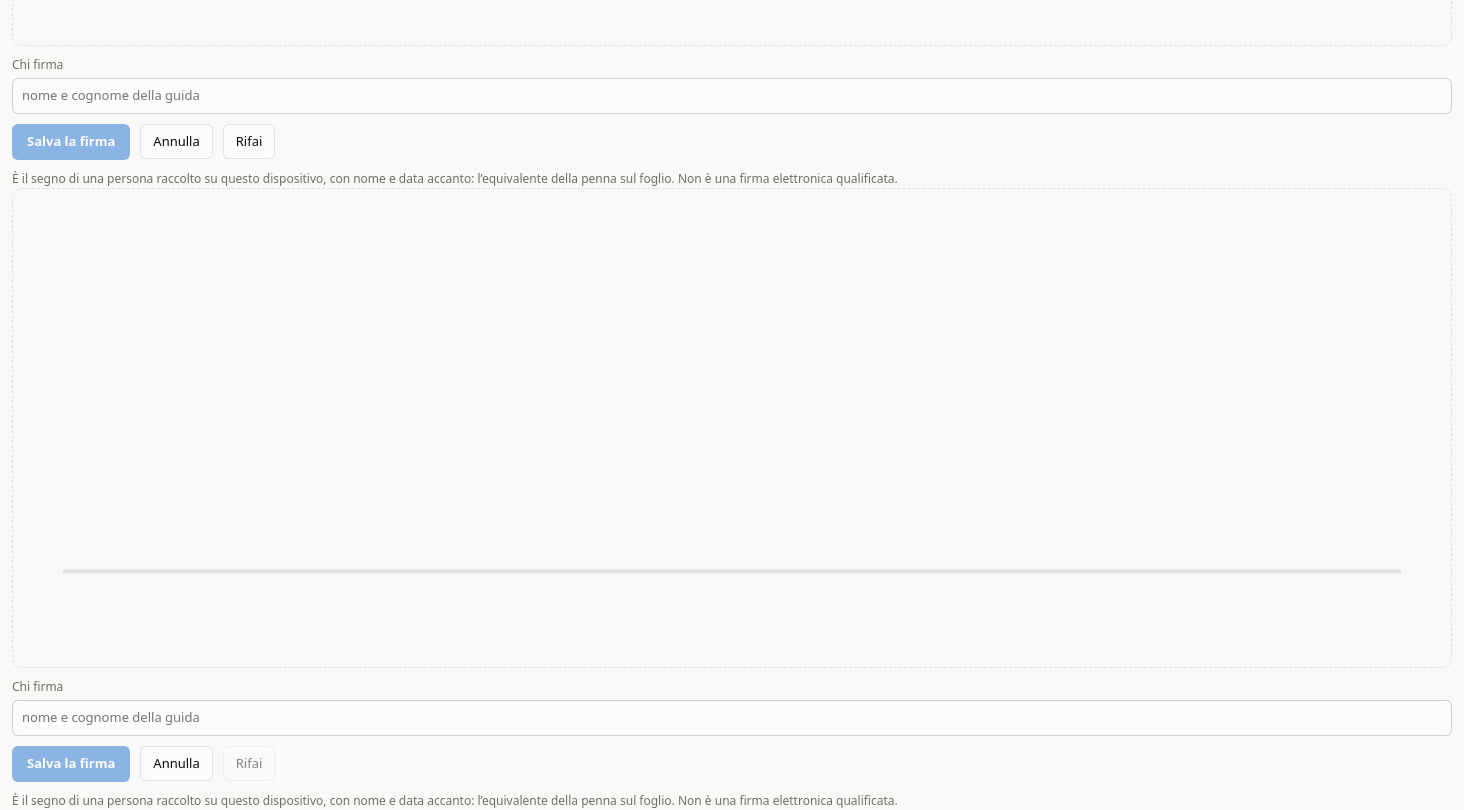
Test case: non si salva una firma vuota › con un segno vero si accende
(page scrolled)
Press the mouse on the 2nd picture with class "riquadro-firma-schermo" at (732, 428), box [12,188,1452,668]
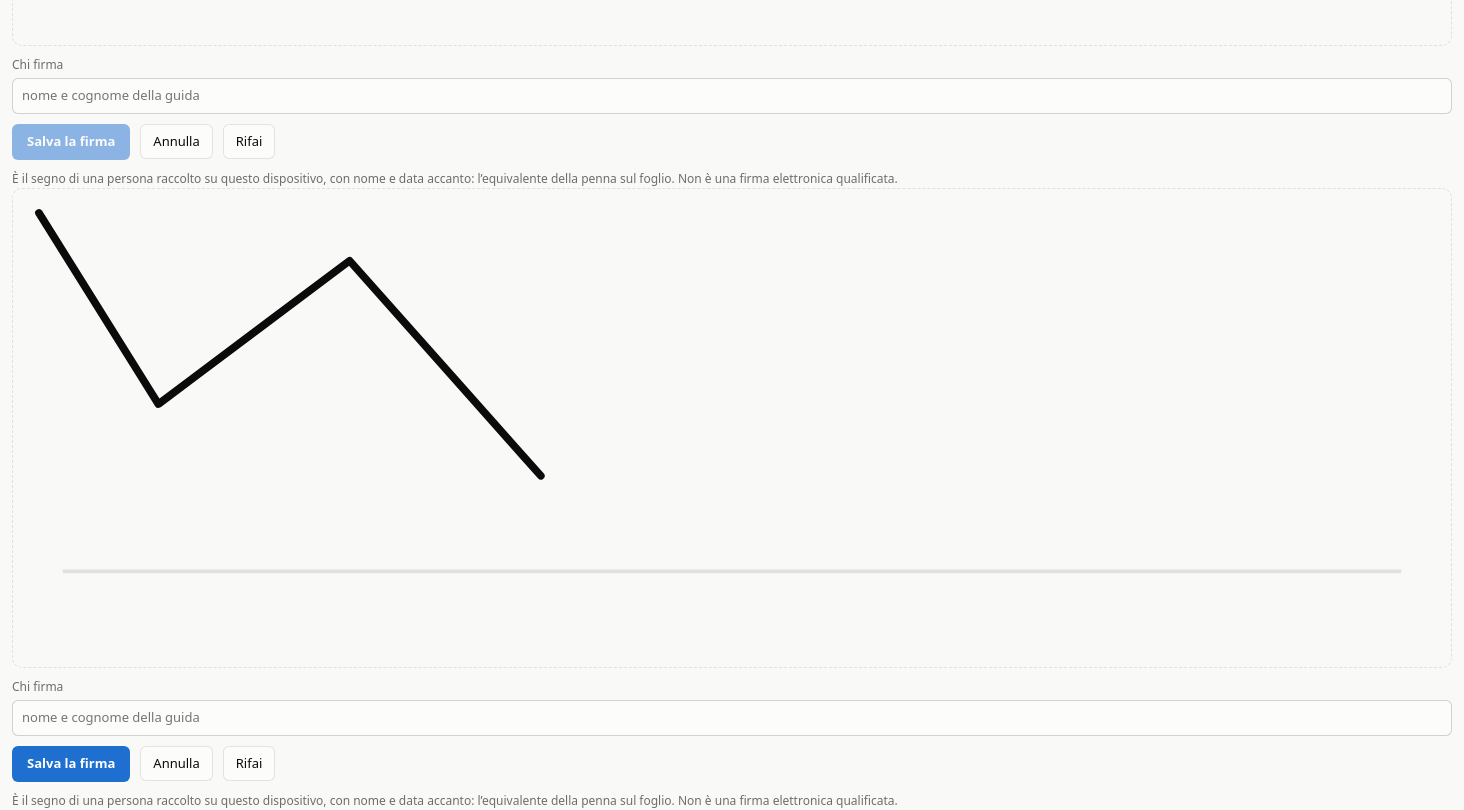
Expected: the 2nd button "Salva la firma" is enabled, [12,746,130,782]
